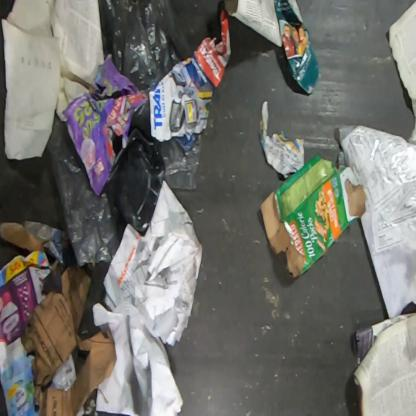cardboard: (21, 265, 116, 416), (258, 154, 368, 281), (0, 220, 78, 294)
rigid_plastic: (104, 128, 166, 234)
soft_plastic: (337, 120, 416, 316), (45, 110, 129, 267), (98, 0, 190, 94), (161, 132, 206, 190)
